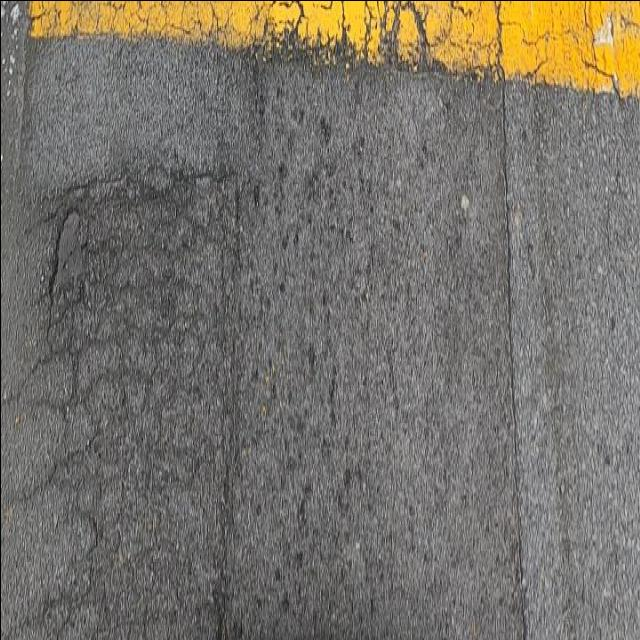cracks: (0, 158, 271, 640), (1, 0, 640, 112), (487, 0, 535, 640)
